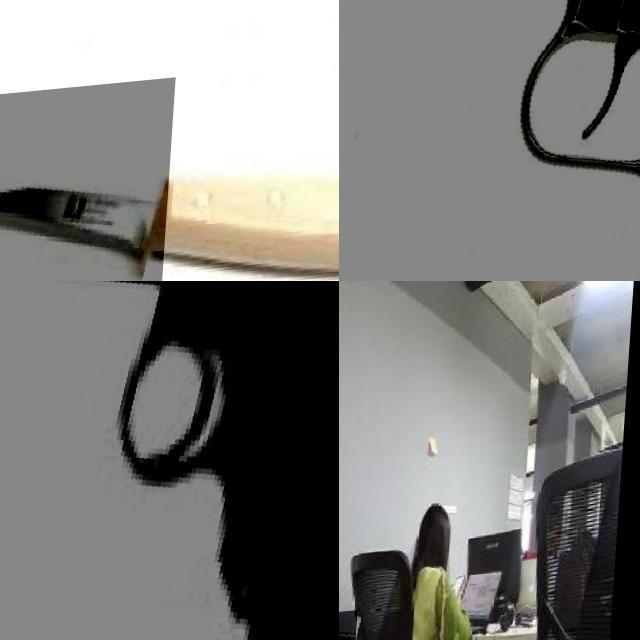-: (0, 82, 178, 281)
gun-knife-thesis - v11 Yolov5 augmented: (0, 281, 339, 640), (339, 0, 640, 281)
